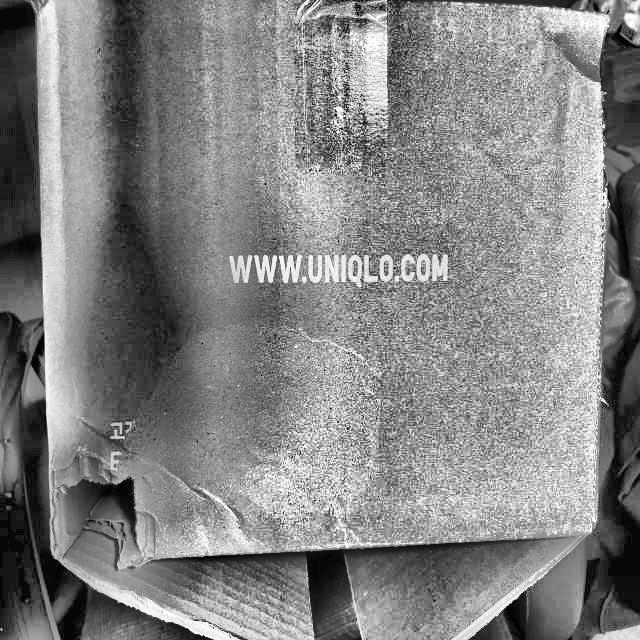box: (35, 0, 607, 639)
hole: (53, 470, 151, 568)
